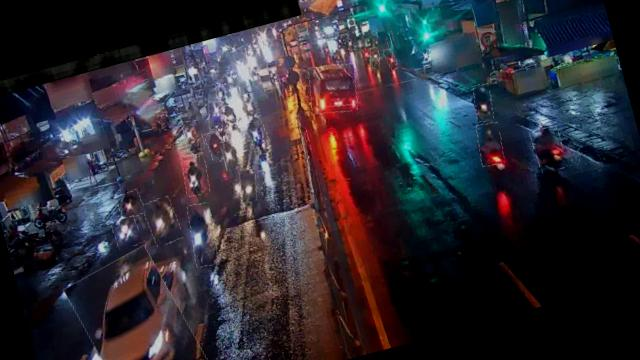Bike: (182, 201, 222, 268), (142, 195, 184, 247), (530, 124, 568, 173), (472, 121, 507, 168), (178, 151, 212, 197), (244, 116, 272, 157), (111, 215, 143, 249), (470, 82, 497, 122), (238, 90, 268, 124), (235, 166, 261, 204), (114, 189, 144, 219), (180, 118, 206, 152), (204, 130, 227, 162), (204, 99, 227, 130), (220, 138, 241, 170), (30, 204, 56, 225), (219, 103, 237, 126), (366, 47, 382, 70), (384, 47, 398, 70), (214, 82, 228, 99)
Bus: (303, 58, 363, 119)
Car: (66, 242, 207, 360)
